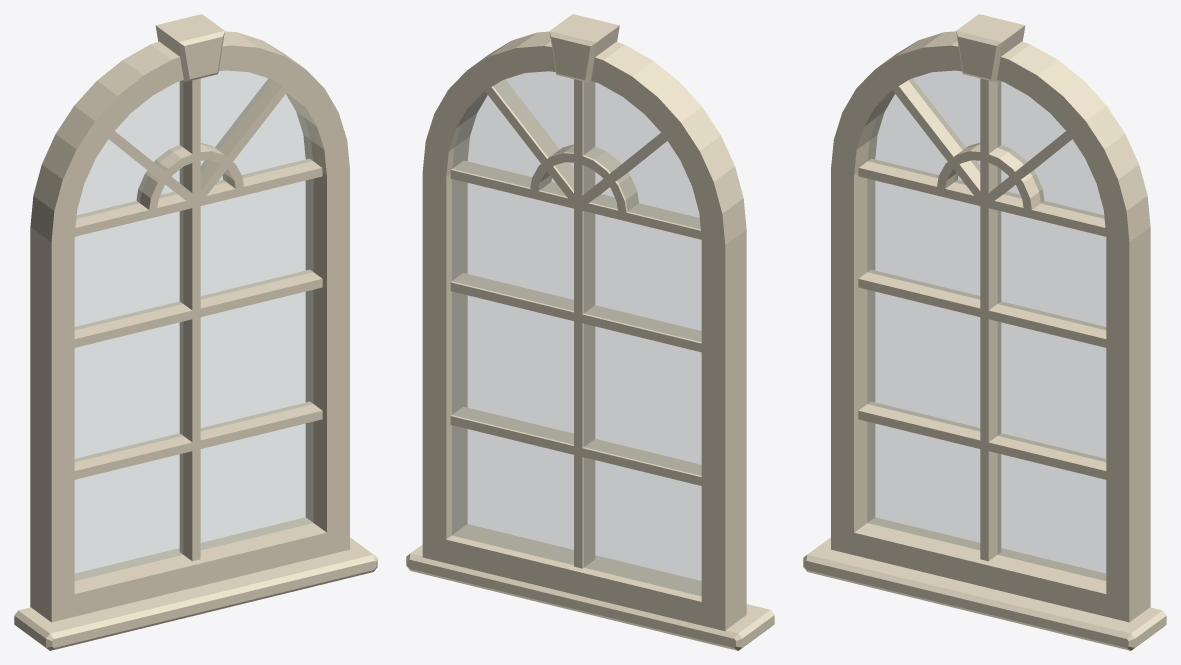
File: window_arch.glb
3 renders of one model, left to right at view 1: azimuth 30°, elevation 25°; view 2: azimuth 150°, elevation 25°; view 3: azimuth 330°, elevation 25°, orthographic.
Parts seen in each view (by area): view 1: WindowArch; view 2: WindowArch; view 3: WindowArch.
Boxes of the visible parts, x1,y1,x2,y2 form: WindowArch: (14,14,377,650); WindowArch: (406,14,774,650); WindowArch: (803,14,1166,650).
Bounding box in the file's own units: 1 × 1.64 × 0.195.
